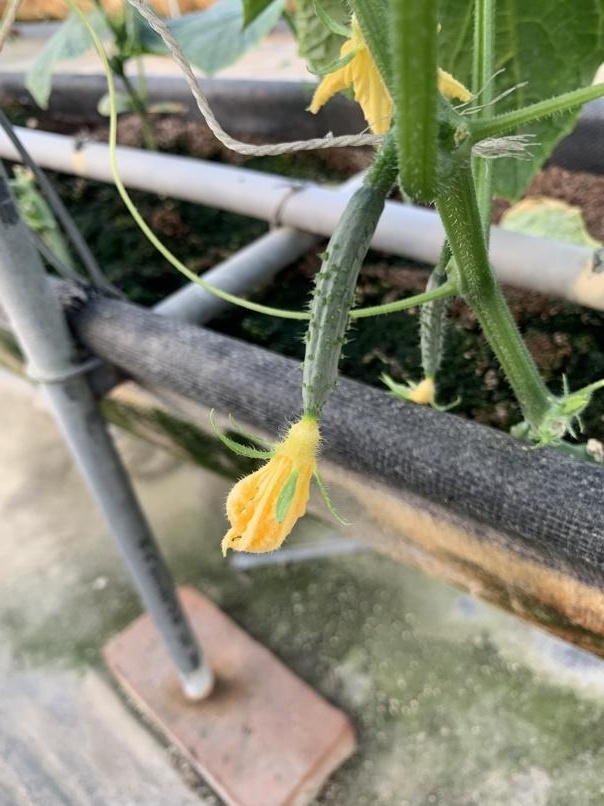bear: (225, 179, 398, 551)
